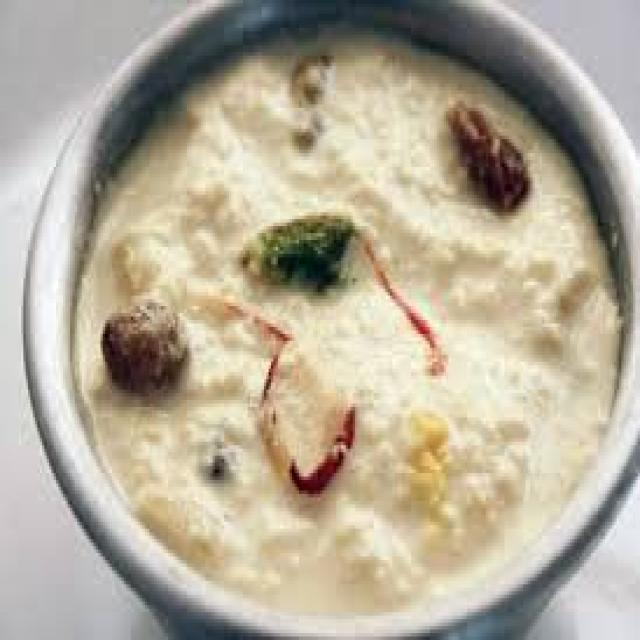Kheer: (86, 40, 606, 586)
